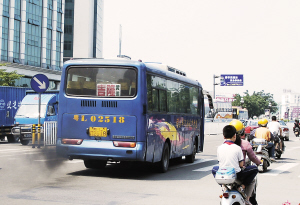smoke: (28, 145, 66, 175)
